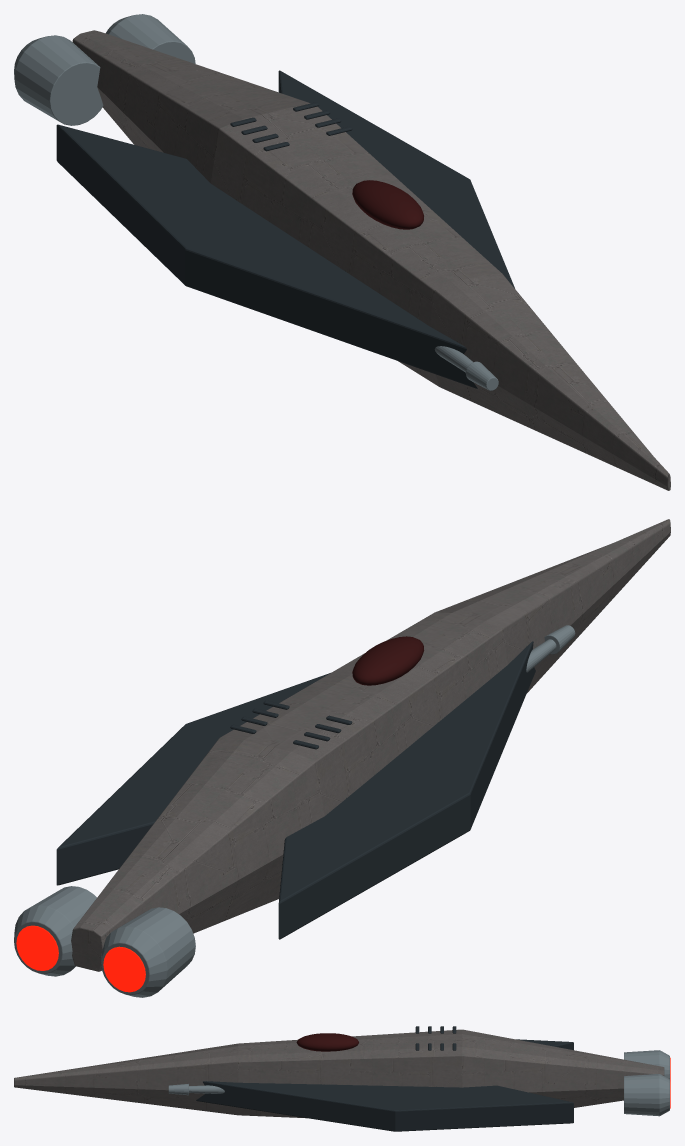
File: space_fog_raider.glb
3 views of the same model, one above another, from view 1: azimuth 30°, elevation 25°; view 2: azimuth 150°, elevation 25°; view 3: azimuth 270°, elevation 25° (orthographic). The views are drawn at different scales.
Visible parts, largest first — view 1: fog_raider_surface_0, fog_raider_surface_1, fog_raider_surface_2, fog_raider_surface_4; view 2: fog_raider_surface_0, fog_raider_surface_1, fog_raider_surface_2, fog_raider_surface_3, fog_raider_surface_4; view 3: fog_raider_surface_0, fog_raider_surface_1, fog_raider_surface_2, fog_raider_surface_4.
Part boxes in pixels (x1=…): fog_raider_surface_0: x1=72, y1=30, x2=670, y2=490; fog_raider_surface_1: x1=56, y1=70, x2=514, y2=388; fog_raider_surface_2: x1=14, y1=14, x2=498, y2=390; fog_raider_surface_4: x1=352, y1=180, x2=423, y2=229; fog_raider_surface_0: x1=71, y1=519, x2=670, y2=971; fog_raider_surface_1: x1=56, y1=641, x2=535, y2=939; fog_raider_surface_2: x1=14, y1=625, x2=575, y2=997; fog_raider_surface_3: x1=16, y1=925, x2=145, y2=992; fog_raider_surface_4: x1=352, y1=636, x2=424, y2=685; fog_raider_surface_0: x1=14, y1=1029, x2=664, y2=1118; fog_raider_surface_1: x1=196, y1=1026, x2=573, y2=1131; fog_raider_surface_2: x1=168, y1=1050, x2=669, y2=1116; fog_raider_surface_4: x1=296, y1=1033, x2=358, y2=1051.
Size of the model in its own units: 8.2 by 3.85 by 29.3.
Materials: 5 (1 with a texture image).
